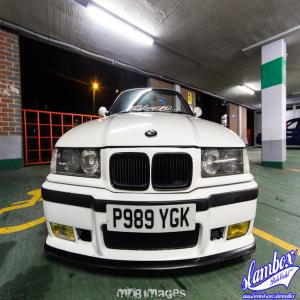Vehicle-registration-plate: (108, 205, 197, 235)
